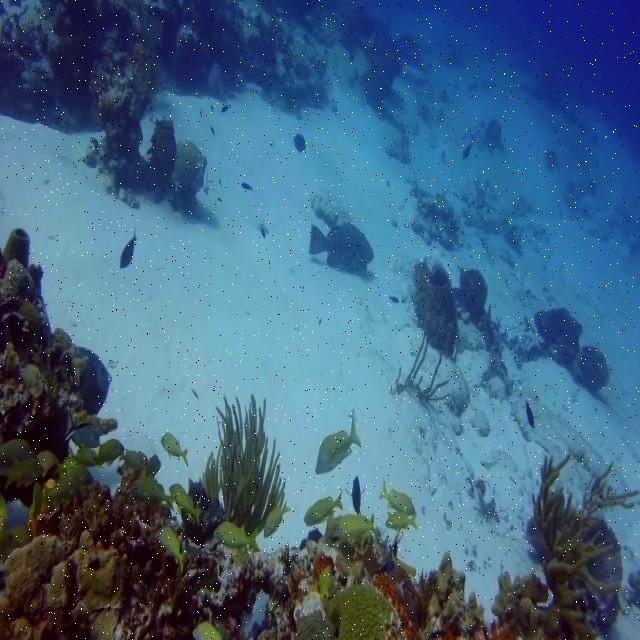fish: (310, 224, 374, 275), (314, 411, 361, 473), (0, 439, 40, 485), (170, 484, 206, 525), (156, 527, 189, 571), (130, 479, 177, 509), (304, 491, 344, 526), (216, 520, 258, 551), (380, 479, 415, 512), (264, 500, 290, 537), (162, 431, 188, 466), (338, 514, 375, 538), (97, 439, 125, 468), (385, 513, 417, 529)
